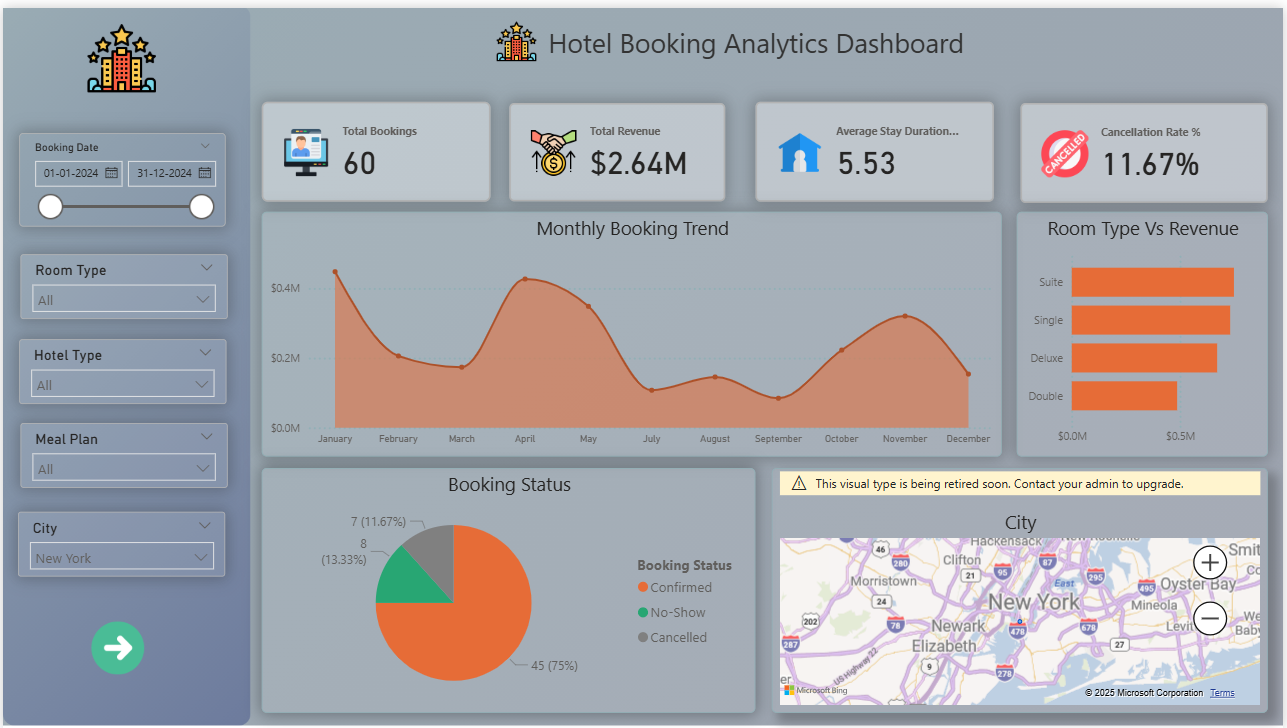

Layout of this report page (visuals, bound fields, positions):
{"tool":"powerbi","page":{"name":"Page 1","canvas":[1280,720],"ordinal":0},"visuals":[{"type":"textbox","box":[515,11.2,476.2,47.5],"z":0},{"type":"image","box":[487.2,4.7,52.3,57],"z":1000},{"type":"slicer","fields":{"Values":["Sheet1.Booking Date"]},"box":[16.3,124.4,212.8,95.3],"z":2000},{"type":"slicer","fields":{"Values":["Sheet1.Room Type"]},"box":[23.4,239.3,207.1,72.4],"z":3000},{"type":"slicer","fields":{"Values":["Sheet1.Hotel Type"]},"box":[22.3,323.9,207.1,72.4],"z":4000},{"type":"slicer","fields":{"Values":["Sheet1.Meal Plan"]},"box":[22.3,416.3,207.1,71.2],"z":5000},{"type":"slicer","fields":{"Values":["Sheet1.City"]},"box":[23.4,512.1,208.2,71.2],"z":6000},{"type":"cardVisual","fields":{"Data":["Count(Sheet1.Booking ID)"]},"box":[258.1,96.5,229.1,97.7],"z":7000},{"type":"cardVisual","fields":{"Data":["Sum(Sheet1.Total Revenue)"]},"box":[497.7,97.7,247.7,97.7],"z":8000},{"type":"image","box":[77.9,7,82.6,86],"z":9000},{"type":"cardVisual","fields":{"Data":["Avg(Sheet1.Stay Duration (Nights))"]},"box":[753.5,97.7,245.3,97.7],"z":10000},{"type":"cardVisual","fields":{"Data":["Sheet1.Cancellation Rate %"]},"box":[1014,95.3,251.2,100],"z":11000},{"type":"lineChart","title":"Monthly Booking Trend","fields":{"Y":["Sum(Sheet1.Total Revenue)"],"Category":["Sheet1.Booking Date.Variation.Date Hierarchy.Month"]},"box":[258.8,203.8,740,245],"z":12000},{"type":"barChart","title":"Room Type Vs Revenue","fields":{"Category":["Sheet1.Room Type"],"Y":["Sum(Sheet1.Total Revenue)"]},"box":[1013.8,203.8,251.2,245],"z":13000},{"type":"pieChart","title":"Booking Status","fields":{"Category":["Sheet1.Booking Status"],"Y":["CountNonNull(Sheet1.Booking Status)"]},"box":[258.8,460,493.8,245],"z":14000},{"type":"map","fields":{"Category":["Sheet1.City"]},"box":[765.1,460.5,496.5,245.3],"z":15000},{"type":"image","box":[70,608.8,90,62.5],"z":16000}]}

Visuals, with their boxes in screenshot pixels (x1, y1, x2, y2), scaled from the page's 1280x720 canvas onto the 1287x728 screenshot:
textbox: 518/11/997/59
image: 490/5/542/62
slicer - Sheet1.Booking Date: 16/126/230/222
slicer - Sheet1.Room Type: 24/242/232/315
slicer - Sheet1.Hotel Type: 22/327/231/401
slicer - Sheet1.Meal Plan: 22/421/231/493
slicer - Sheet1.City: 24/518/233/590
cardVisual - Count(Sheet1.Booking ID): 260/98/490/196
cardVisual - Sum(Sheet1.Total Revenue): 500/99/749/198
image: 78/7/161/94
cardVisual - Avg(Sheet1.Stay Duration (Nights)): 758/99/1004/198
cardVisual - Sheet1.Cancellation Rate %: 1020/96/1272/197
"Monthly Booking Trend" lineChart: 260/206/1004/454
"Room Type Vs Revenue" barChart: 1019/206/1272/454
"Booking Status" pieChart: 260/465/757/713
map - Sheet1.City: 769/466/1268/714
image: 70/616/161/679
